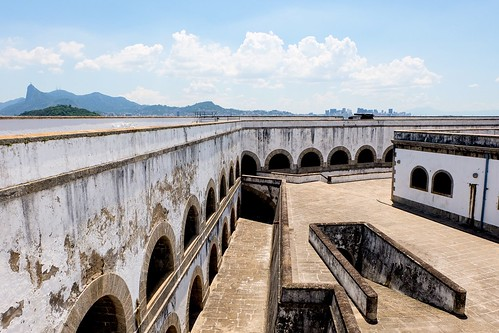building: (1, 116, 490, 333)
sky: (9, 1, 499, 104)
